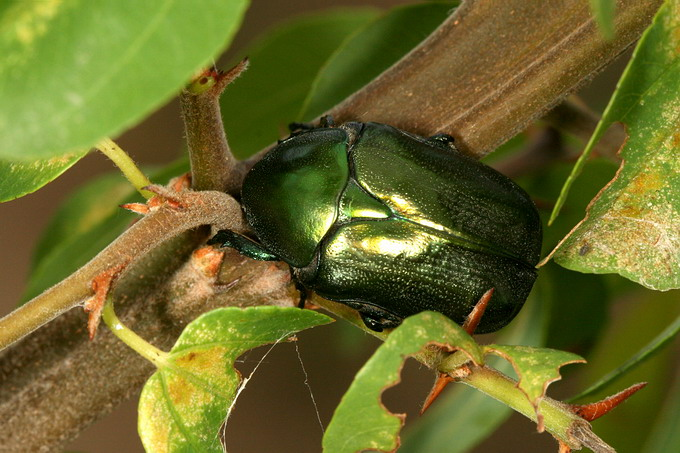Protaetia_angustata_angustata: (204, 109, 547, 339)
